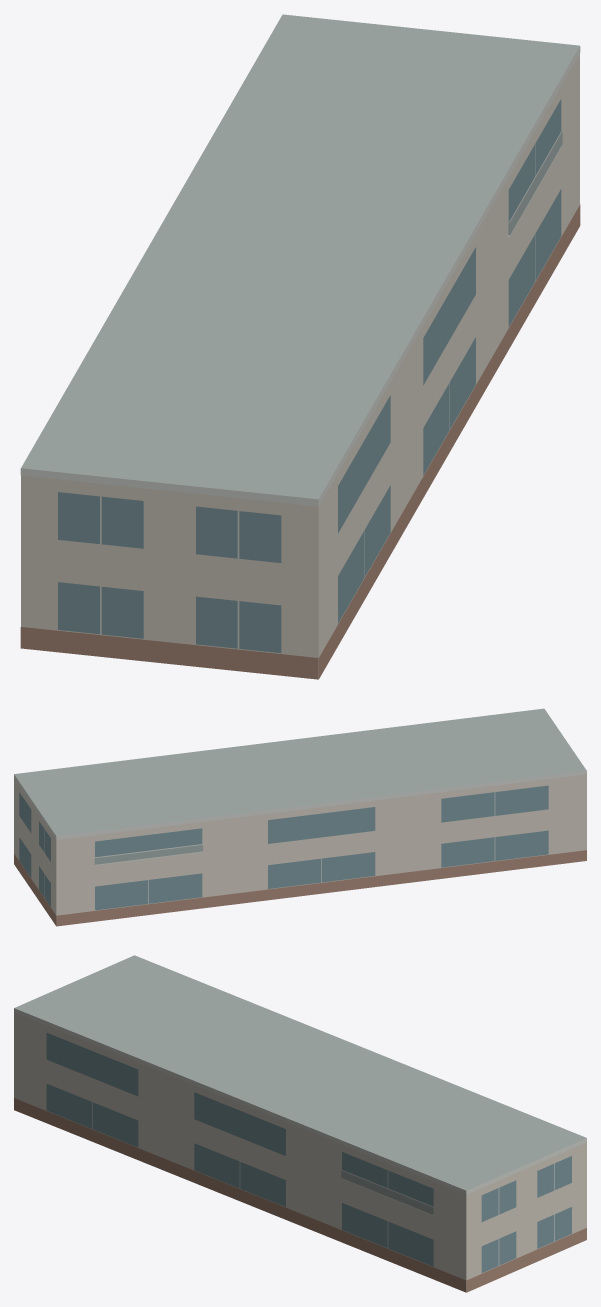
The model's file is survey-upis-32983781.glb.
3 views of the same model, one above another, from view 1: azimuth 30°, elevation 25°; view 2: azimuth 150°, elevation 25°; view 3: azimuth 270°, elevation 25° (orthographic). The views are drawn at different scales.
Visible parts, largest first — view 1: survey-upis-32983781.tmp; view 2: survey-upis-32983781.tmp; view 3: survey-upis-32983781.tmp.
Part boxes in pixels (box(x1,y1,x2,y2)): survey-upis-32983781.tmp: box(20, 14, 580, 679); survey-upis-32983781.tmp: box(14, 708, 586, 926); survey-upis-32983781.tmp: box(14, 955, 586, 1292).
Size of the model in its own units: 30.21 by 6.1 by 31.06.
